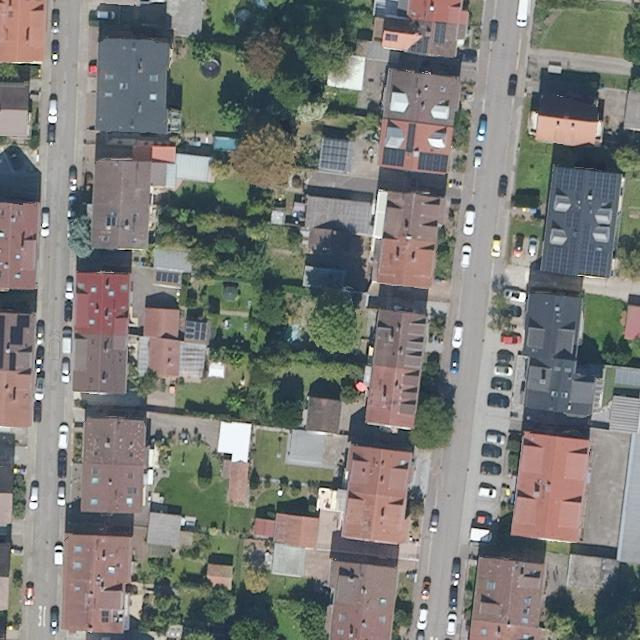PV: (554, 165, 619, 203), (575, 222, 610, 279), (543, 236, 581, 277), (318, 137, 352, 173), (417, 150, 451, 175), (381, 145, 407, 169), (183, 320, 208, 343), (152, 269, 183, 284), (564, 210, 582, 231), (409, 37, 430, 55), (405, 122, 417, 153), (433, 20, 447, 45)
